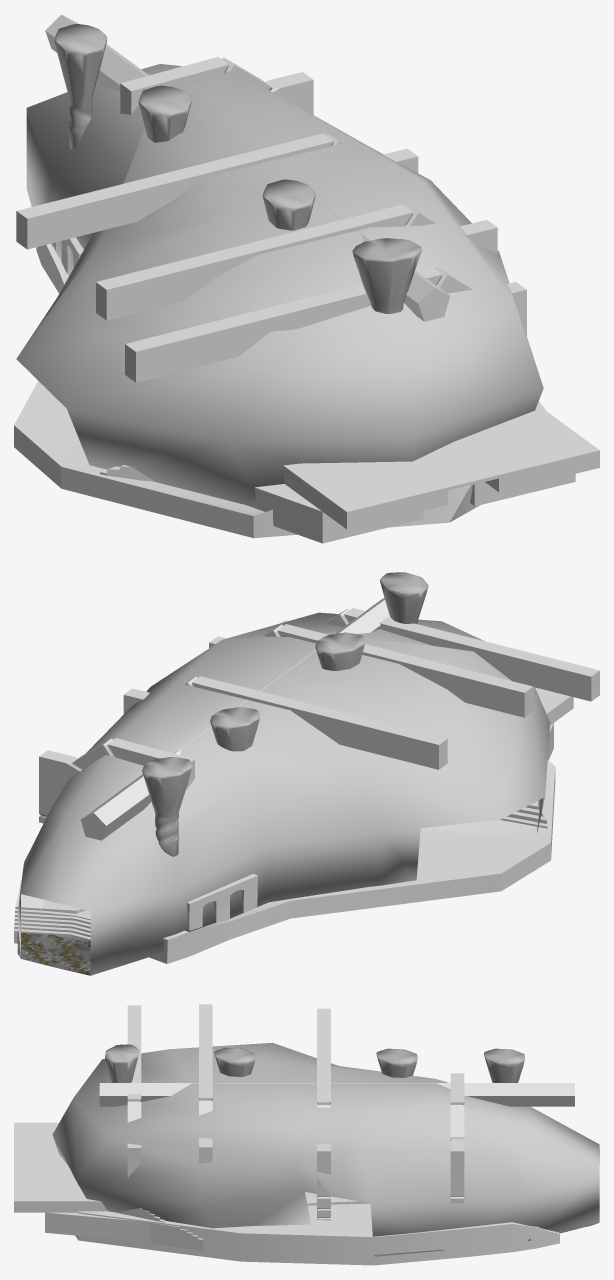
Rendered from MinecartReceivingRoom.fbx.
3 views of the same model, one above another, from view 1: azimuth 30°, elevation 25°; view 2: azimuth 150°, elevation 25°; view 3: azimuth 270°, elevation 25° (orthographic). The views are drawn at different scales.
Parts seen in each view (by area): view 1: Roundcube.002, Cube.068, Floor_low, Cube.080, Cube.078, Cube.079, Cube.076, Pillar_low.001, Pillar_low.004, Cube.077, Cylinder.023, Pillar_low.002 (+1 smaller); view 2: Roundcube.002, Floor_low, Cube.078, Cube.080, Cube.079, Cube.077, Cylinder.023, Pillar_low.001, Pillar_low.004, Cube.074, Pillar_low.002, Pillar_low.003 (+2 smaller); view 3: Roundcube.002, Floor_low, Cube.068, Cylinder.023, Cube.076, Cube.078, Cube.077, Cube.079, Cube.080, Pillar_low.001, Pillar_low.004, Pillar_low.002 (+1 smaller).
Boxes of the visible parts, <box> form: Roundcube.002: <box>16,64,543,505</box>; Cube.068: <box>283,405,599,529</box>; Floor_low: <box>14,243,540,538</box>; Cube.080: <box>125,266,526,382</box>; Cube.078: <box>16,133,418,249</box>; Cube.079: <box>96,204,497,320</box>; Cube.076: <box>100,401,575,543</box>; Pillar_low.001: <box>54,24,107,151</box>; Pillar_low.004: <box>352,238,421,313</box>; Cube.077: <box>120,57,313,114</box>; Cylinder.023: <box>45,14,450,321</box>; Pillar_low.002: <box>138,85,191,142</box>; Roundcube.002: <box>17,612,550,975</box>; Floor_low: <box>14,760,555,963</box>; Cube.078: <box>123,676,447,769</box>; Cube.080: <box>281,608,599,701</box>; Cube.079: <box>209,624,533,717</box>; Cube.077: <box>39,738,194,823</box>; Cylinder.023: <box>80,598,389,840</box>; Pillar_low.001: <box>142,757,192,856</box>; Pillar_low.004: <box>380,572,428,623</box>; Cube.074: <box>187,873,257,930</box>; Pillar_low.002: <box>210,707,260,751</box>; Pillar_low.003: <box>315,632,365,670</box>; Roundcube.002: <box>52,1042,599,1256</box>; Floor_low: <box>75,1192,559,1265</box>; Cube.068: <box>14,1122,164,1222</box>; Cylinder.023: <box>99,1083,574,1106</box>; Cube.076: <box>45,1212,202,1250</box>; Cube.078: <box>317,1008,330,1220</box>; Cube.077: <box>450,1073,464,1203</box>; Cube.079: <box>199,1004,212,1163</box>; Cube.080: <box>127,1005,141,1178</box>; Pillar_low.001: <box>484,1048,525,1082</box>; Pillar_low.004: <box>105,1044,139,1082</box>; Pillar_low.002: <box>376,1048,417,1077</box>.
Size of the model in its own units: 10469 by 4949 by 17918.
